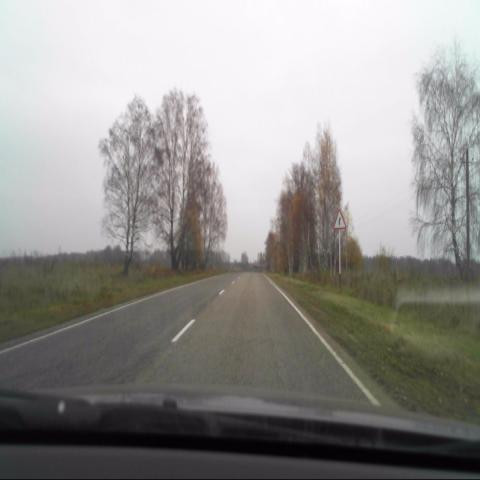1_11: (332, 208, 347, 231)
